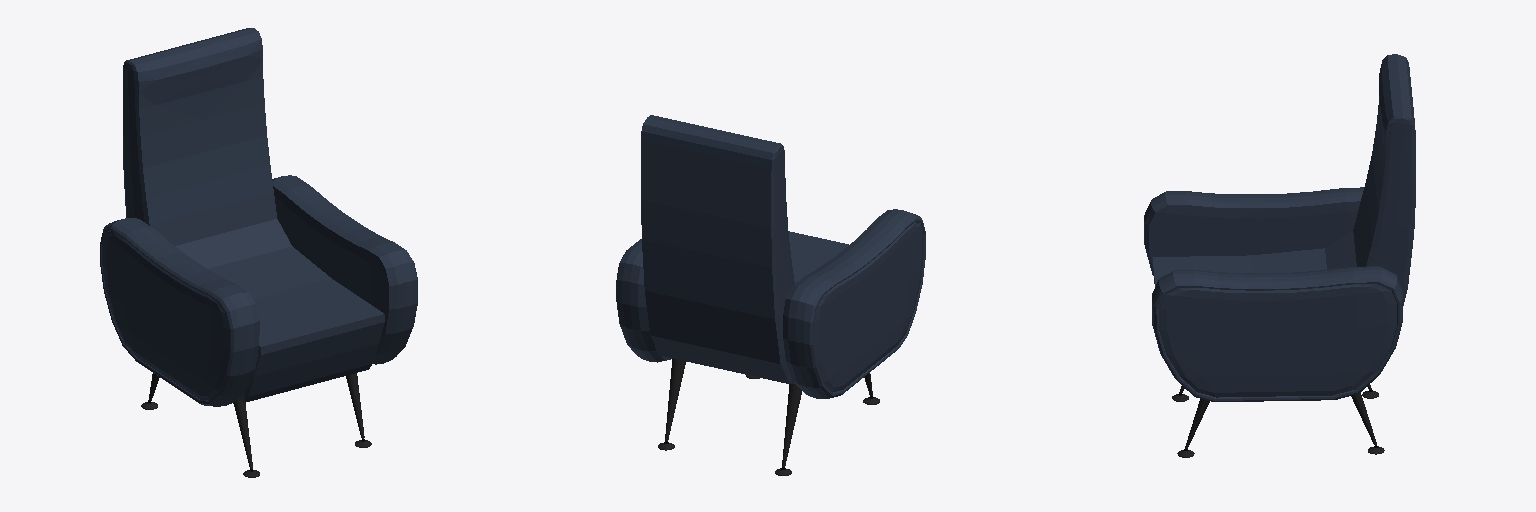
Rendered from armchair3.obj.
3 renders of one model, left to right at view 1: azimuth 30°, elevation 25°; view 2: azimuth 150°, elevation 25°; view 3: azimuth 270°, elevation 25°, orthographic.
Visible parts, largest first — view 1: sofa_zul_Cube.040, sofa_zul_potas_Tube.002; view 2: sofa_zul_Cube.040, sofa_zul_potas_Tube.002; view 3: sofa_zul_Cube.040, sofa_zul_potas_Tube.002.
Boxes of the visible parts, x1=… form: sofa_zul_Cube.040: x1=100, y1=28, x2=417, y2=406; sofa_zul_potas_Tube.002: x1=141, y1=373, x2=371, y2=477; sofa_zul_Cube.040: x1=616, y1=115, x2=925, y2=398; sofa_zul_potas_Tube.002: x1=658, y1=358, x2=879, y2=475; sofa_zul_Cube.040: x1=1144, y1=54, x2=1415, y2=401; sofa_zul_potas_Tube.002: x1=1172, y1=384, x2=1384, y2=457.
Size of the model in its own units: 0.5914 by 0.949 by 0.6939.